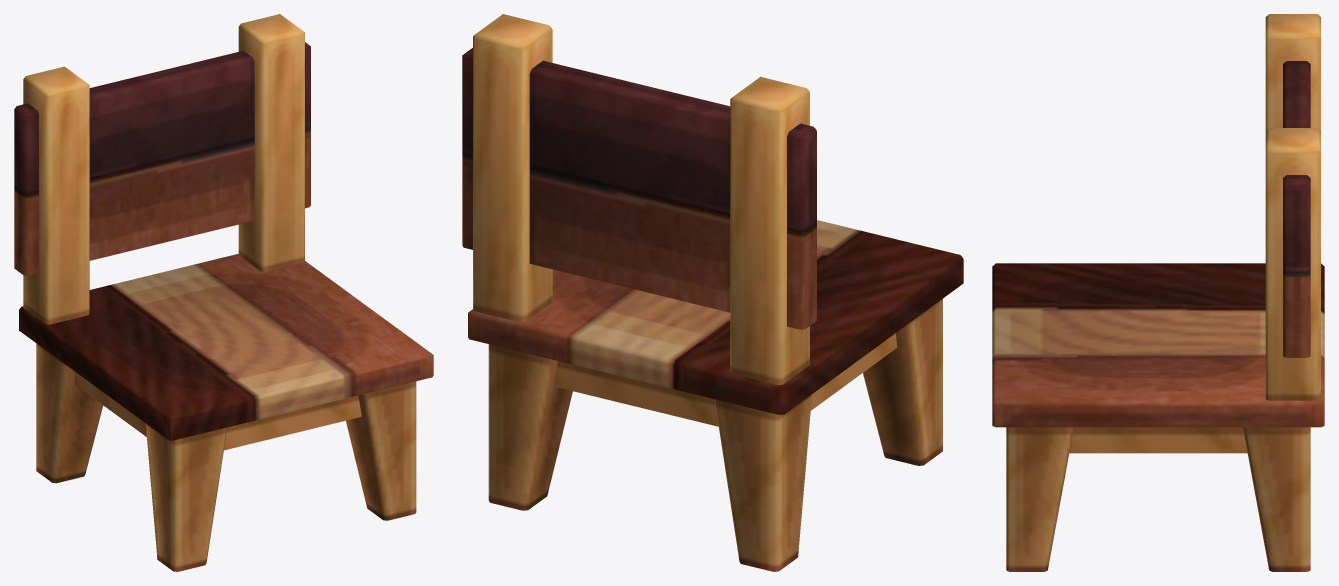
The model's file is rmk_mxw_chairS.dae.
The picture shows the model from 3 angles, left to right: view 1: azimuth 30°, elevation 25°; view 2: azimuth 150°, elevation 25°; view 3: azimuth 270°, elevation 25°; orthographic projection. The views are drawn at different scales.
Visible parts, largest first — view 1: rmk_mxw_chairS; view 2: rmk_mxw_chairS; view 3: rmk_mxw_chairS.
Part boxes in pixels (left/top/right/bottom): rmk_mxw_chairS: left=14, top=14, right=433, bottom=571; rmk_mxw_chairS: left=462, top=14, right=963, bottom=571; rmk_mxw_chairS: left=992, top=14, right=1324, bottom=571.
Size of the model in its own units: 26 by 34 by 24.
Materials: 1 (1 with a texture image).
